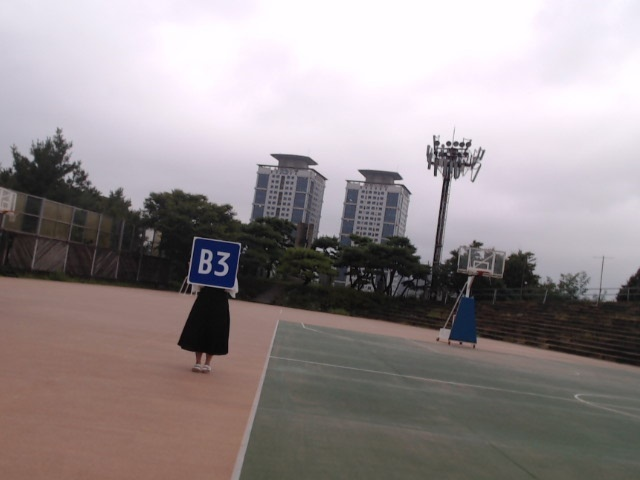delivery_b3: (187, 237, 241, 289)
